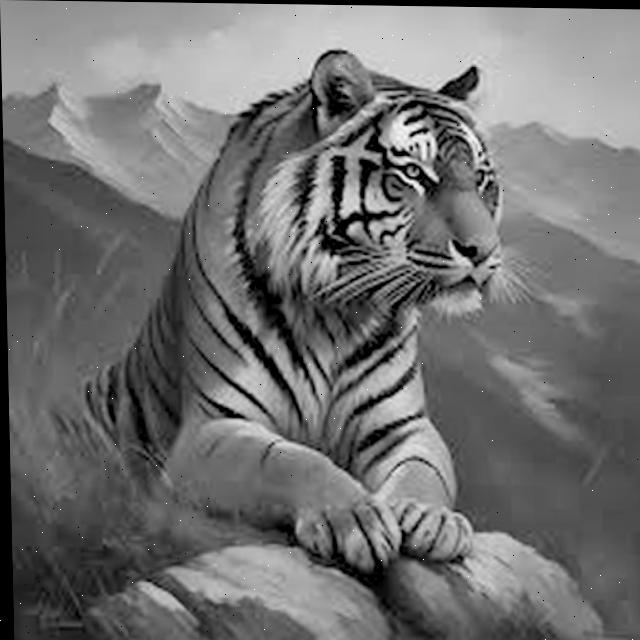Tiger: (130, 47, 496, 557)
